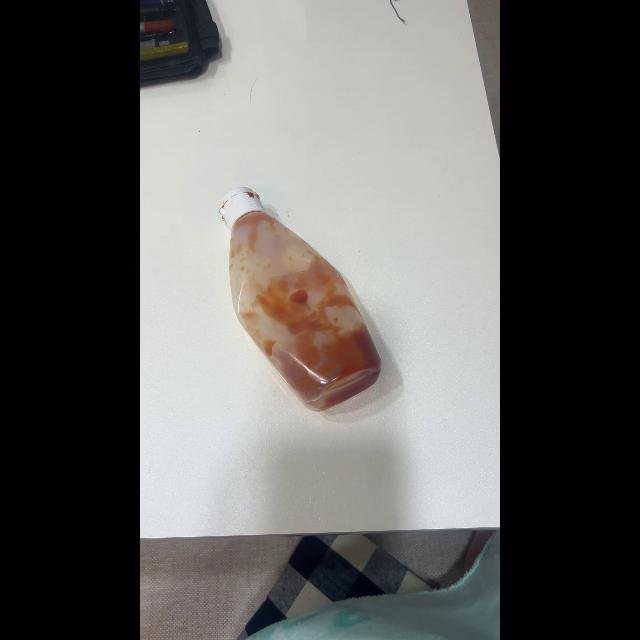dirty: (230, 193, 380, 409)
